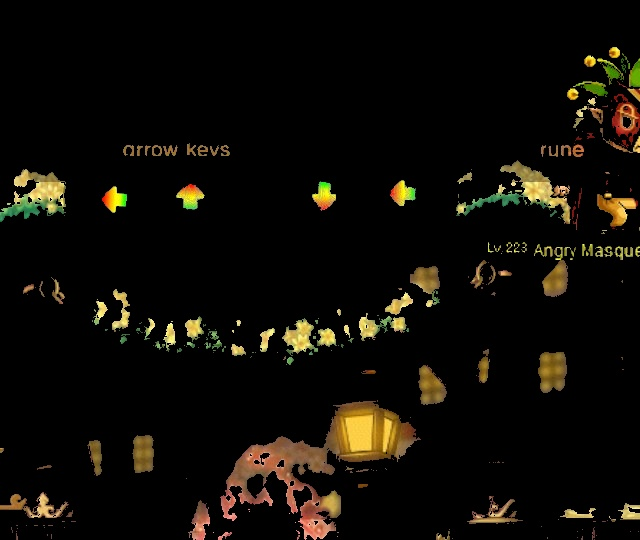rune_box: (54, 148, 470, 247)
